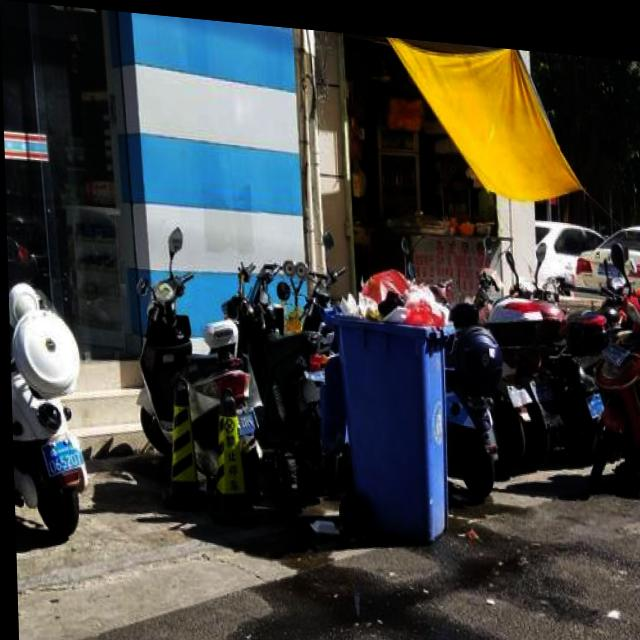overflow: (314, 256, 458, 536)
